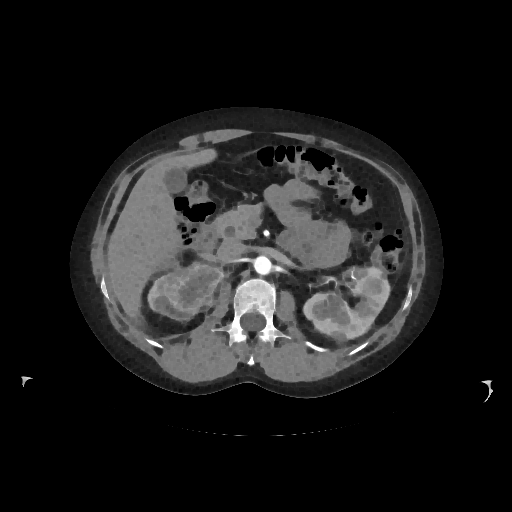Lesion: (162, 259, 225, 314)
